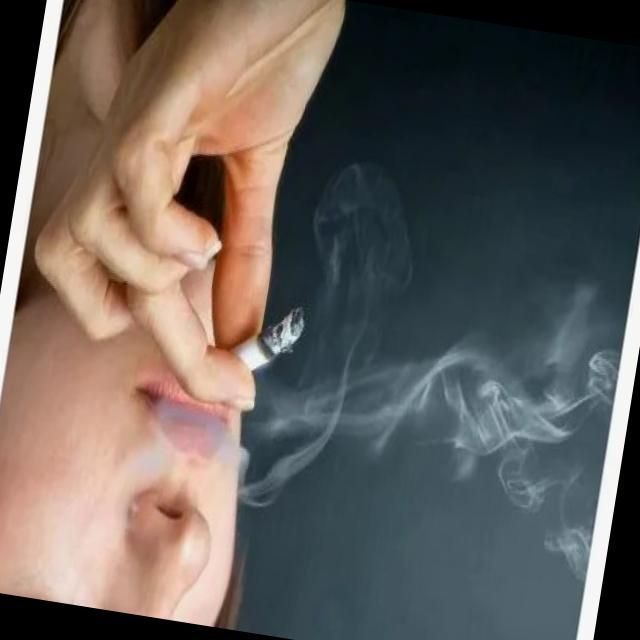cigarette: (218, 286, 312, 392)
